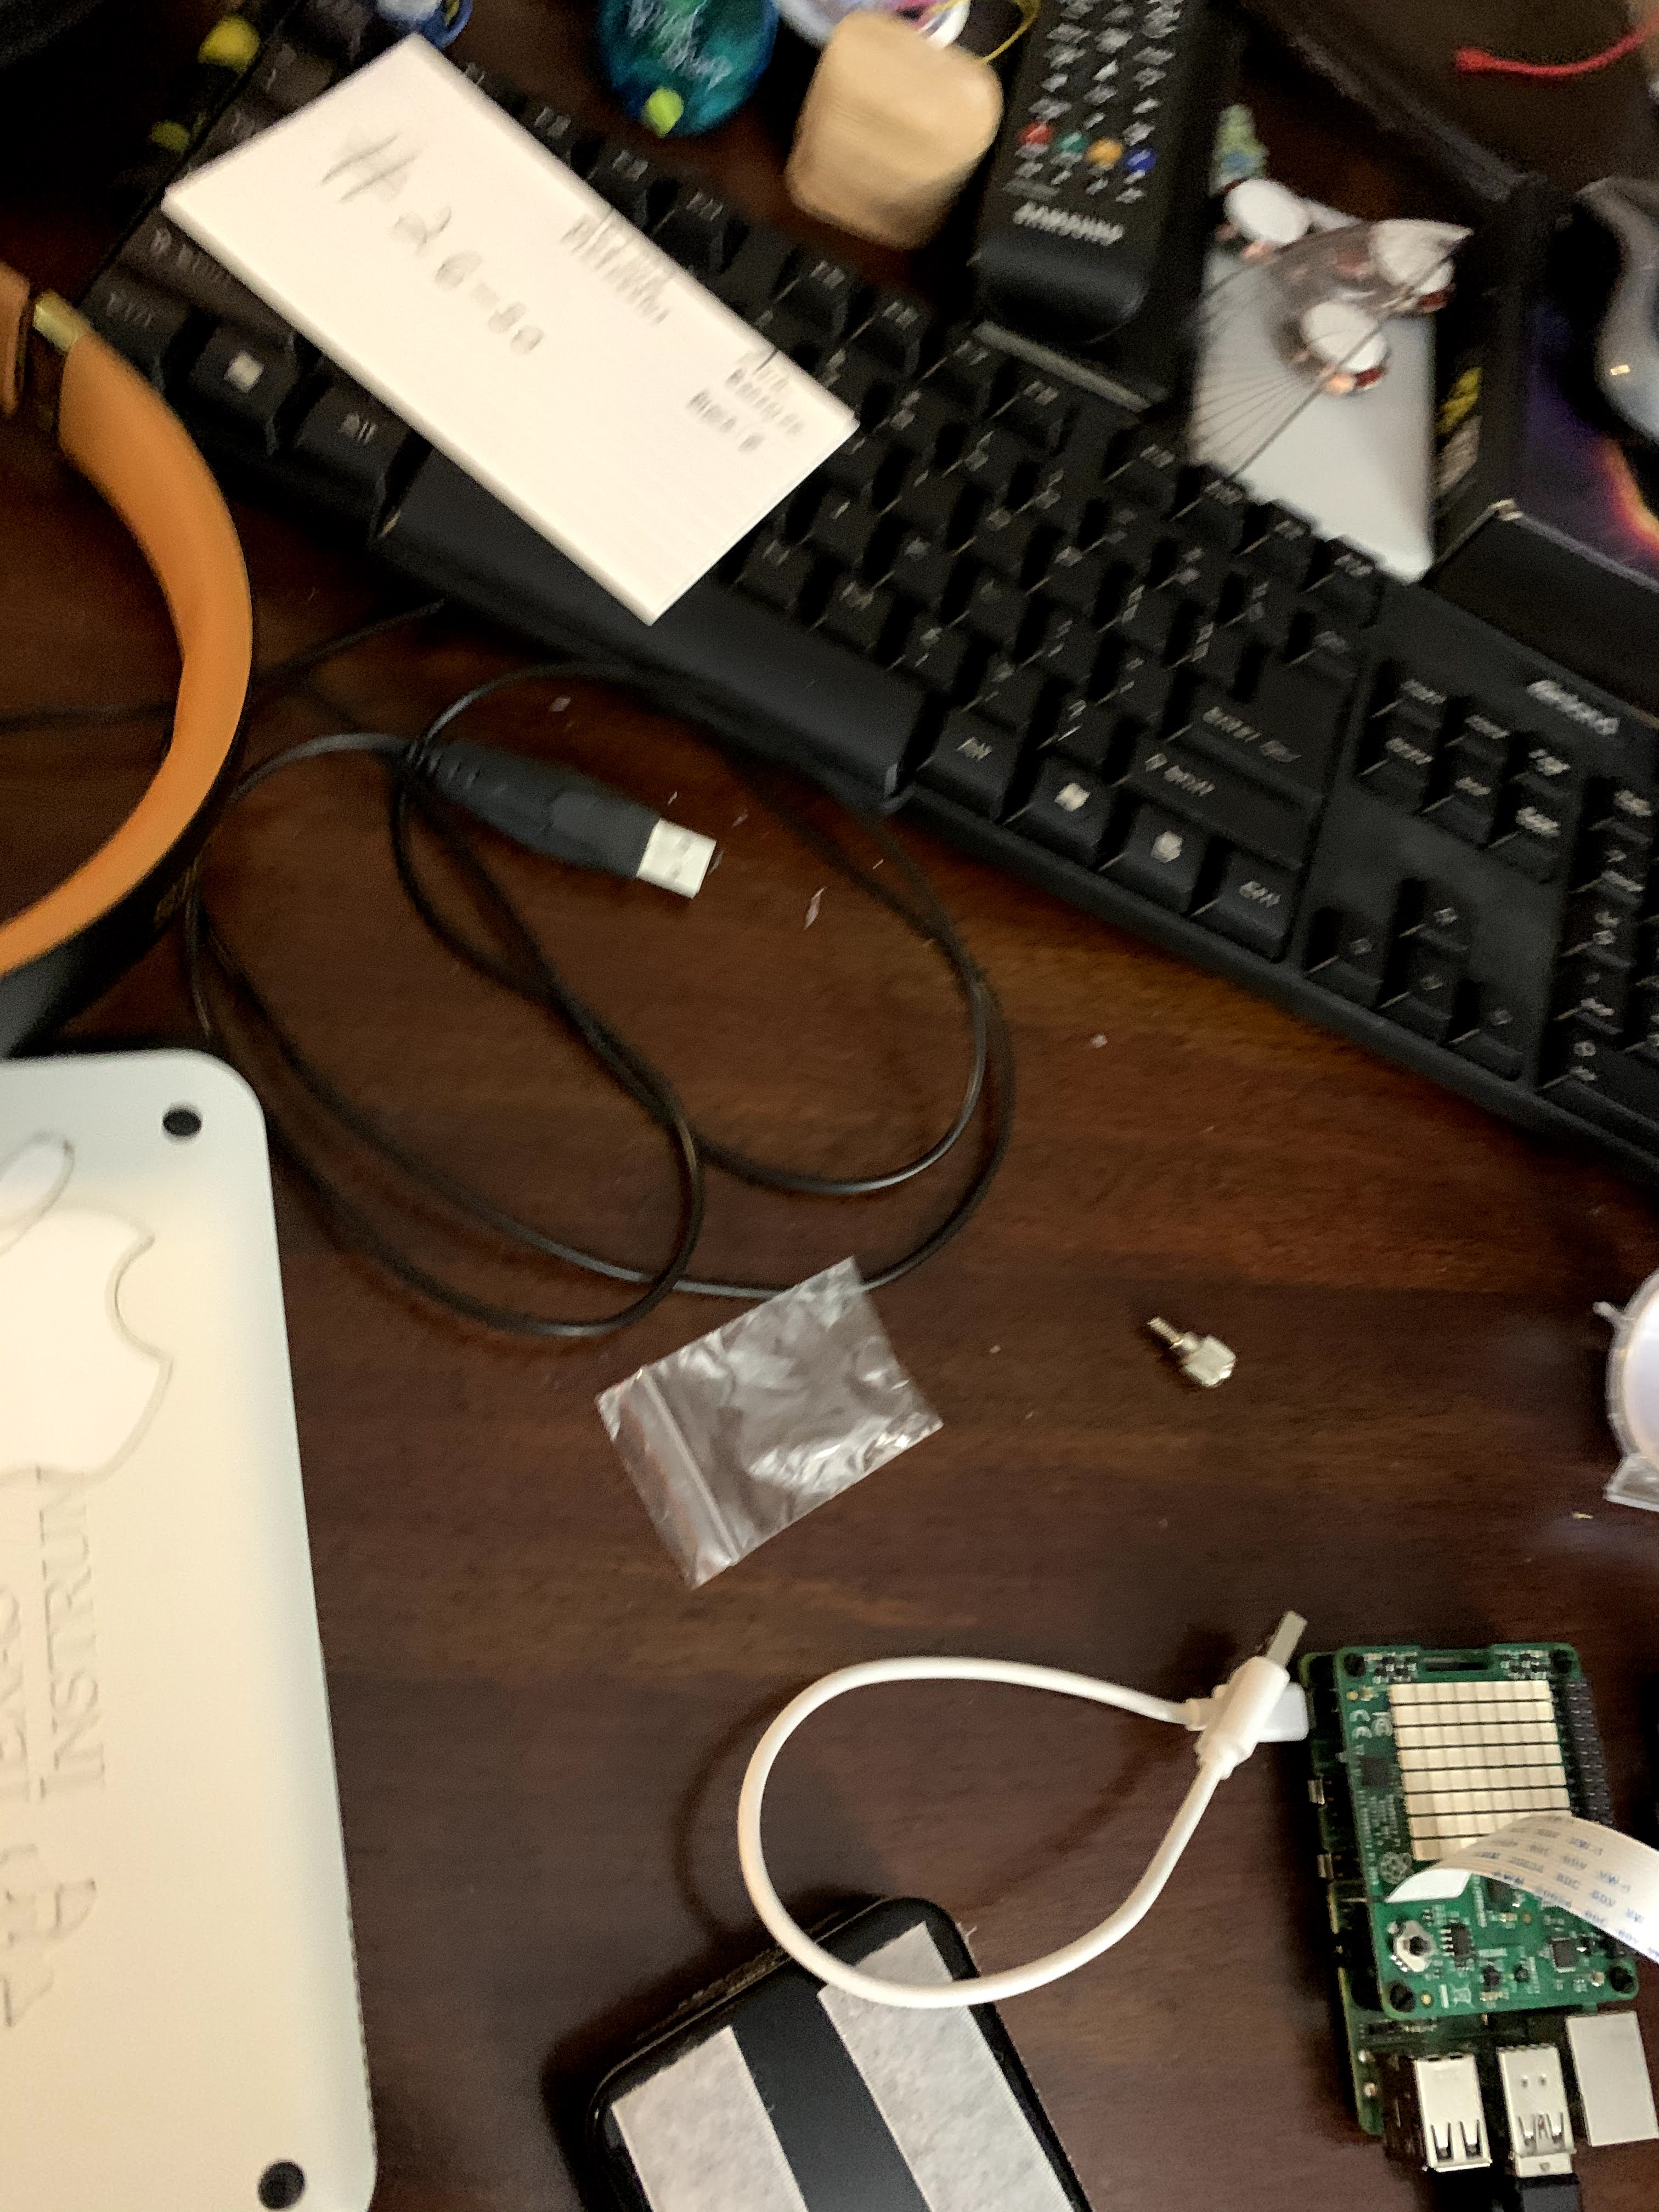Space-debris-small: (1131, 1310, 1243, 1395)
